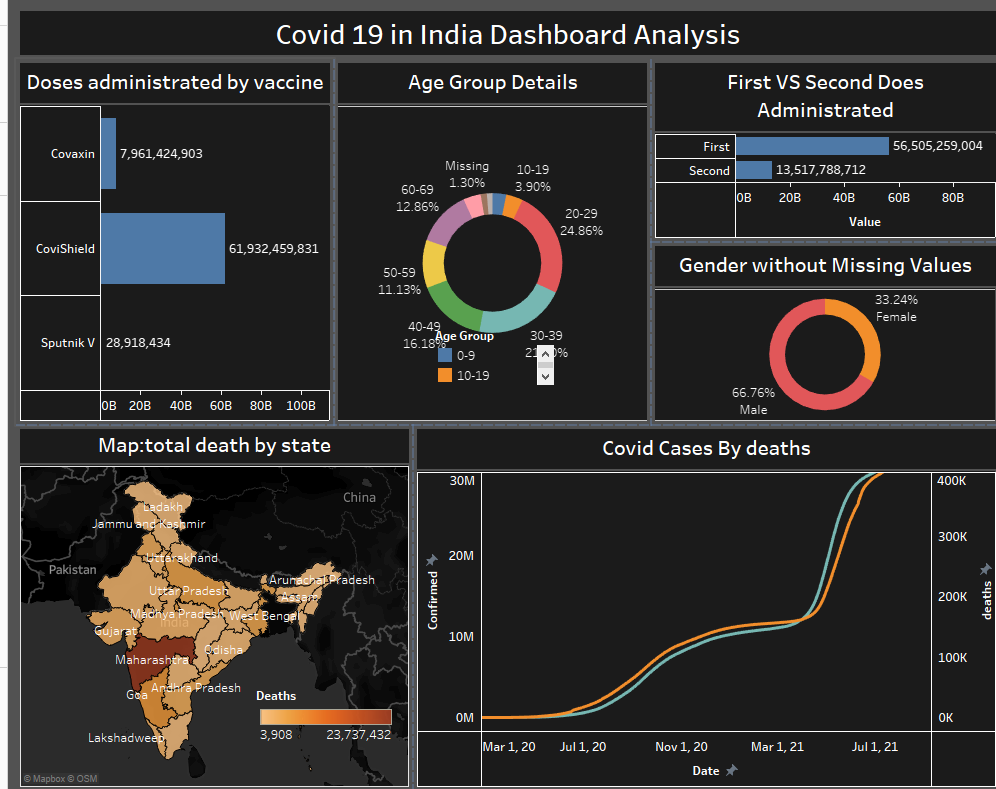

What the dashboard file says about the page in this screenshot:
{"tool":"tableau","page":{"name":"Dashboard ","canvas":[1000,800],"ordinal":0},"visuals":[{"type":"worksheet","title":"Sheet 7","mark":"Automatic","box":[8,8,984,52]},{"type":"worksheet","title":"Doses administrated by vaccine","mark":"Automatic","box":[8,60,317.5,366]},{"type":"worksheet","title":"Age Group Details","mark":"Pie","rows":["Calculation_844424975025172481","Calculation_844424975025172481"],"box":[325.5,60,317.5,366]},{"type":"worksheet","title":"First VS Second Does Administrated","mark":"Automatic","box":[643,60,349,183]},{"type":"worksheet","title":"Gender without Missing Values","mark":"Pie","rows":["Calculation_844424975031840775","Calculation_844424975031877641"],"box":[643,243,349,183]},{"type":"legend","title":"Age Group Details","param":"[federated.0tfohy21qz966u195e8uf1gpgvoz].[none:AgeGroup:nk]","box":[427,328,121,58]},{"type":"worksheet","title":"Map:total death by state","mark":"Automatic","box":[8,426,397,366]},{"type":"worksheet","title":"Covid Cases By deaths","mark":"Automatic","rows":["Confirmed","Deaths"],"cols":["Date"],"box":[405,426,587,366]},{"type":"legend","title":"Map:total death by state","param":"[federated.1nqlp0702df8w71c86nmi18vixra].[sum:Deaths:qk]","box":[248,688,140,76]}]}

Visuals, with their boxes in screenshot pixels (x1, y1, x2, y2), scaled from the page's 1000x800 canvas onto the 996x789 screenshot:
"Sheet 7" worksheet: [x1=8, y1=8, x2=988, y2=59]
"Doses administrated by vaccine" worksheet: [x1=8, y1=59, x2=324, y2=420]
"Age Group Details" worksheet (Pie marks): [x1=324, y1=59, x2=640, y2=420]
"First VS Second Does Administrated" worksheet: [x1=640, y1=59, x2=988, y2=240]
"Gender without Missing Values" worksheet (Pie marks): [x1=640, y1=240, x2=988, y2=420]
"Age Group Details" legend: [x1=425, y1=323, x2=546, y2=381]
"Map:total death by state" worksheet: [x1=8, y1=420, x2=403, y2=781]
"Covid Cases By deaths" worksheet: [x1=403, y1=420, x2=988, y2=781]
"Map:total death by state" legend: [x1=247, y1=679, x2=386, y2=753]
